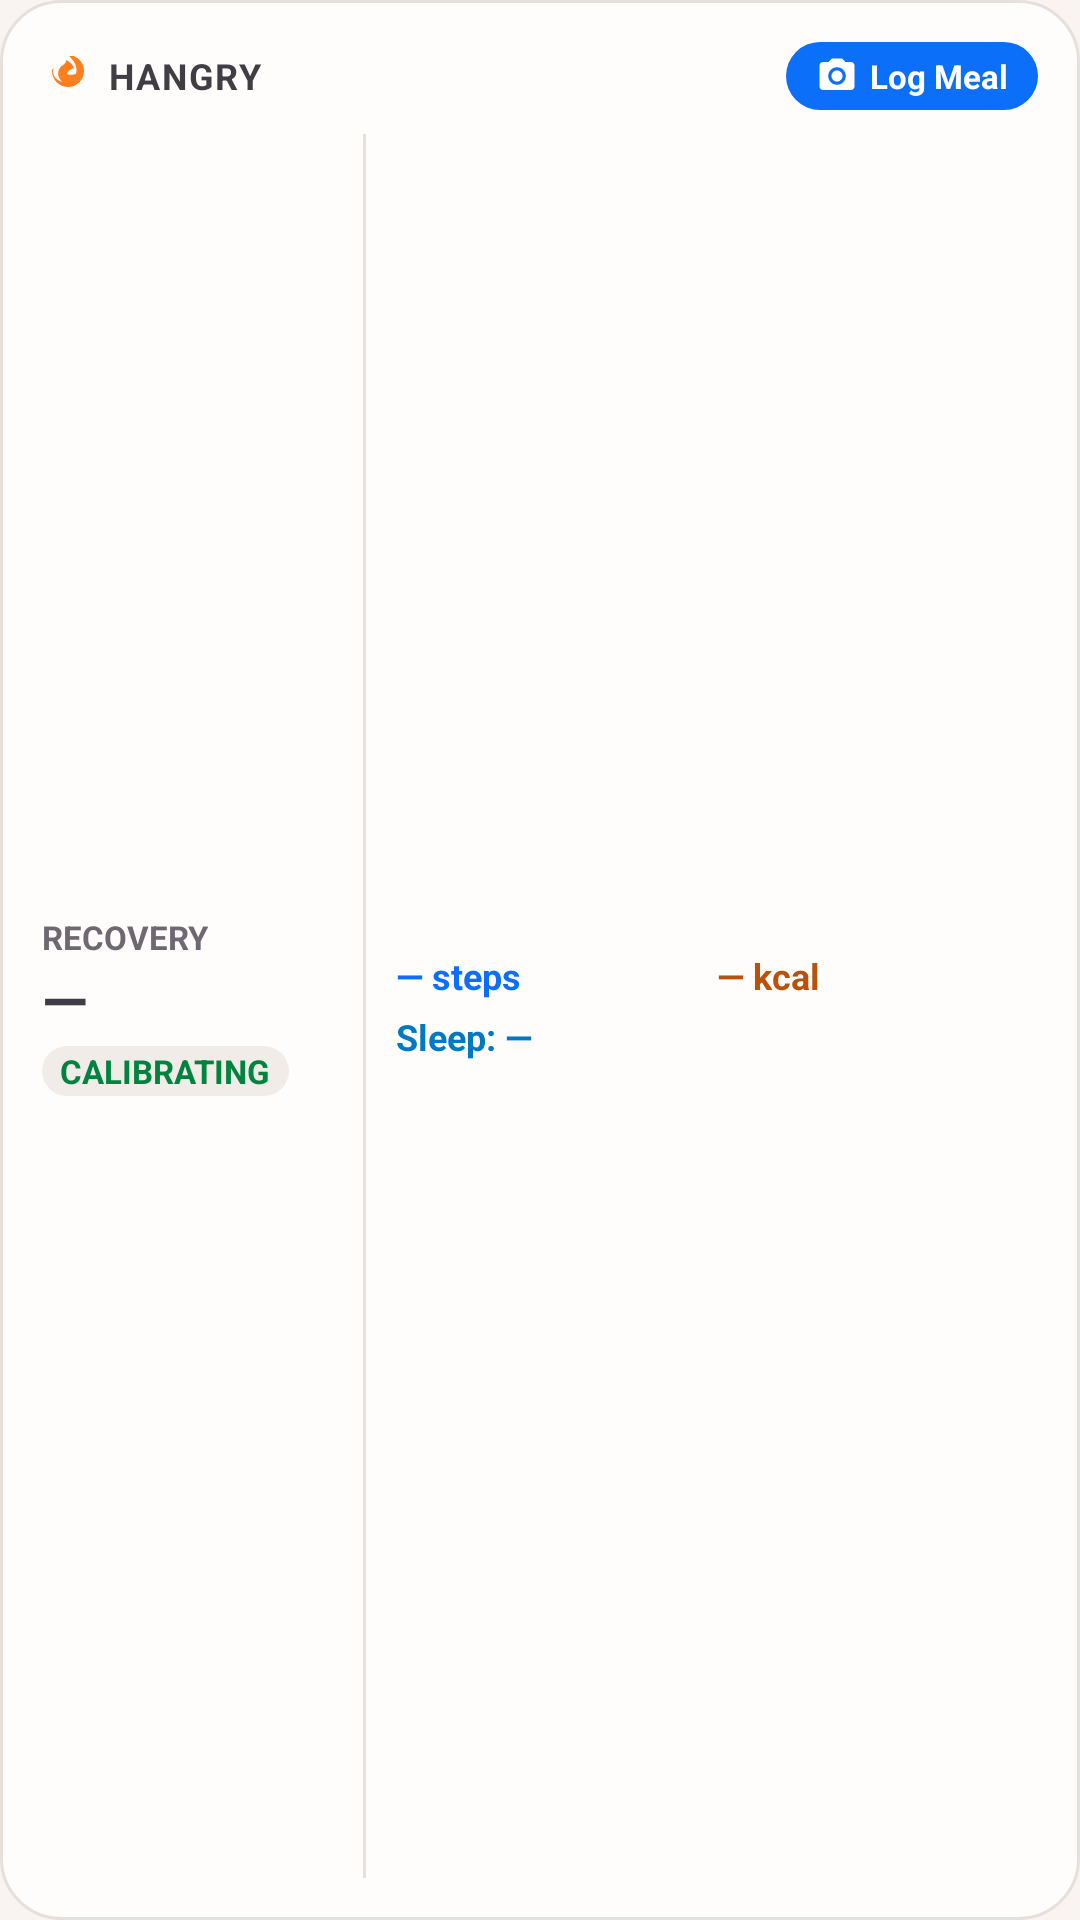

Named icons in this screenshot (1080×1920) and their centers, (x=x, y=y):
widget camera: (x=837, y=74)
widget flame: (x=68, y=71)
